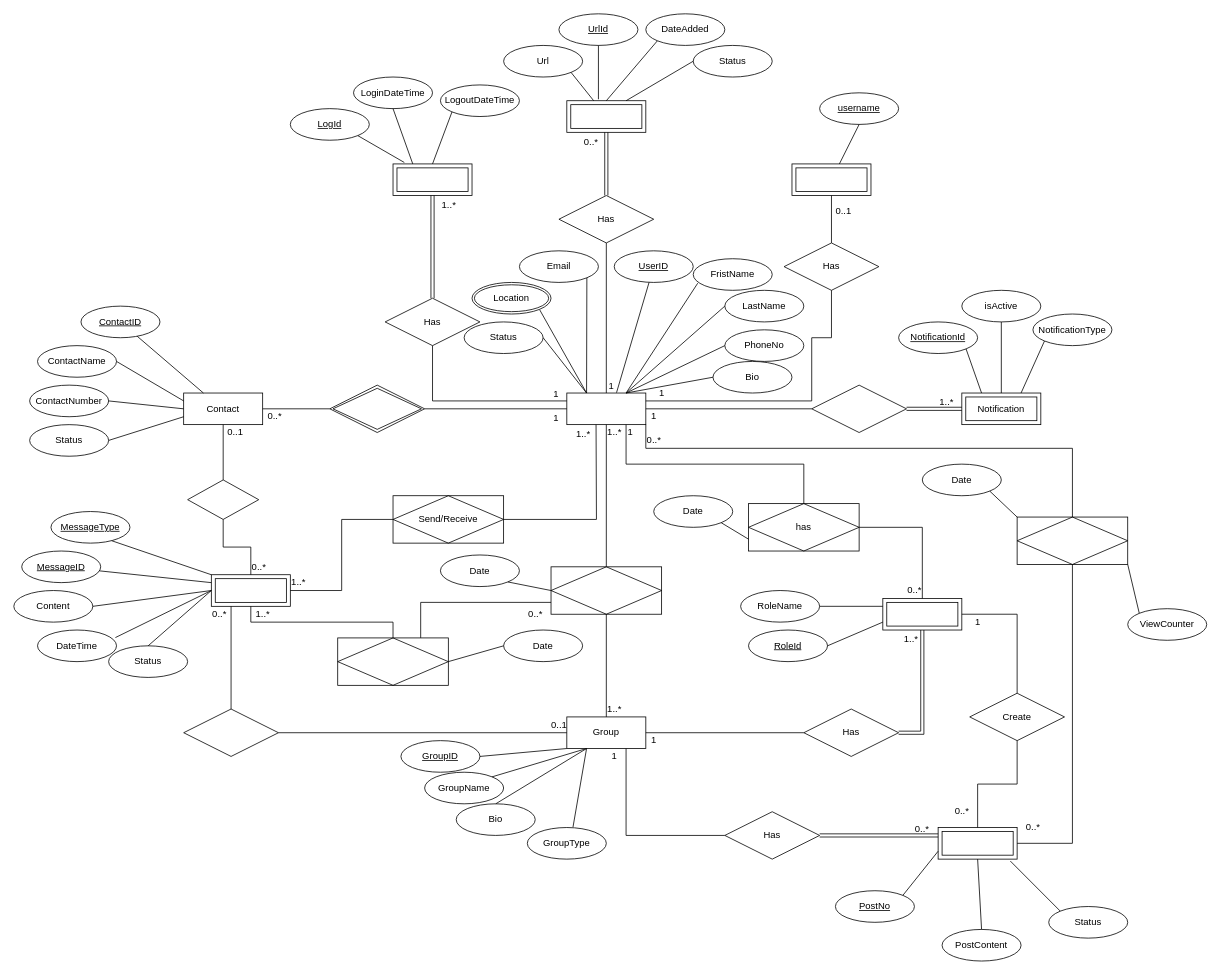
Image size: 1221x975. Some labels were removed from this diagram. Each missing label, with the centre of its shape:
"Add" belongs at [377,408].
"Channel Post" belongs at [977,843].
"Create/Join" belongs at [606,590].
"Enable/Disable" belongs at [859,408].
"GroupRoles" belongs at [922,614].
"Message" belongs at [250,590].
"Send to" belongs at [230,732].
"Sent to" belongs at [223,499].
"User" belongs at [606,408].
"UserLogs" belongs at [432,179].
"Usernames" belongs at [831,179].
"UserPhotos" belongs at [606,116].
"View" belongs at [1072,540].
"View by members" belongs at [392,661].
